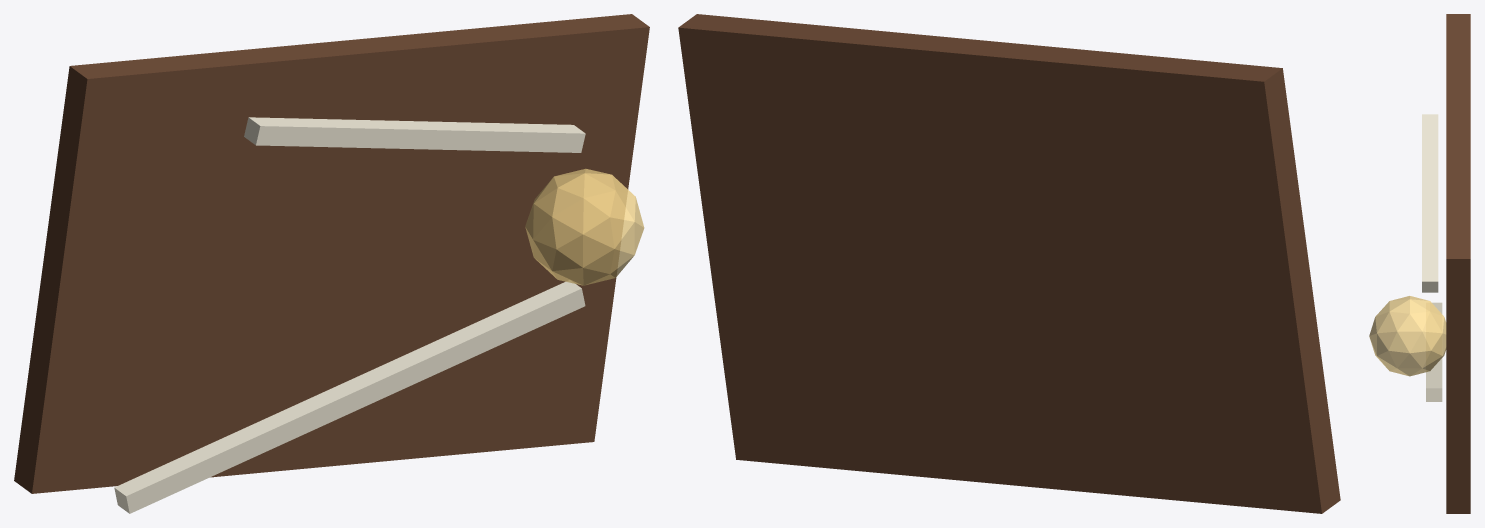
The model's file is 02_world_prop_polish.glb.
3 renders of one model, left to right at view 1: azimuth 30°, elevation 25°; view 2: azimuth 150°, elevation 25°; view 3: azimuth 270°, elevation 25°, orthographic. The views are drawn at different scales.
Visible parts, largest first — view 1: object_overlay_plate, edge_wear_a, glow_socket, edge_wear_b; view 2: object_overlay_plate; view 3: object_overlay_plate, glow_socket, edge_wear_b, edge_wear_a.
Boxes of the visible parts, bbox=[...] form: object_overlay_plate: bbox=[14, 14, 649, 493]; edge_wear_a: bbox=[114, 280, 585, 513]; glow_socket: bbox=[525, 168, 644, 285]; edge_wear_b: bbox=[244, 117, 585, 152]; object_overlay_plate: bbox=[678, 14, 1340, 513]; object_overlay_plate: bbox=[1446, 14, 1470, 513]; glow_socket: bbox=[1369, 296, 1446, 376]; edge_wear_b: bbox=[1422, 114, 1438, 292]; edge_wear_a: bbox=[1426, 302, 1442, 401].
Bounding box in the file's own units: 1.2 × 0.8999 × 0.25.
